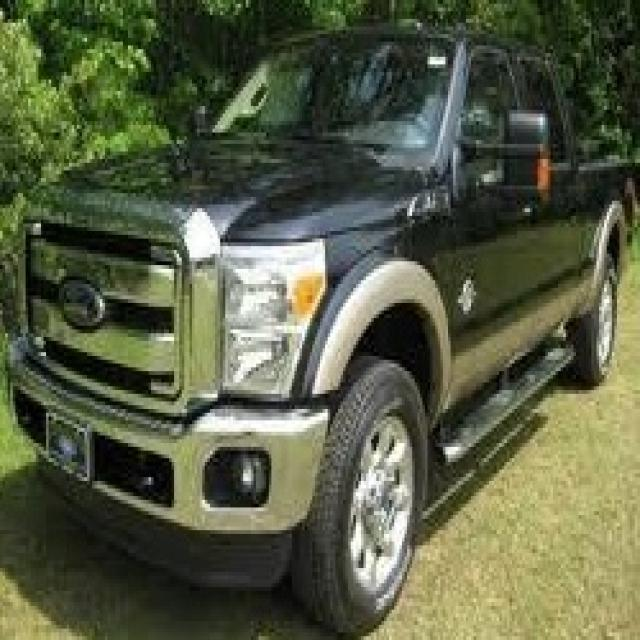CMT: (8, 19, 622, 613)
